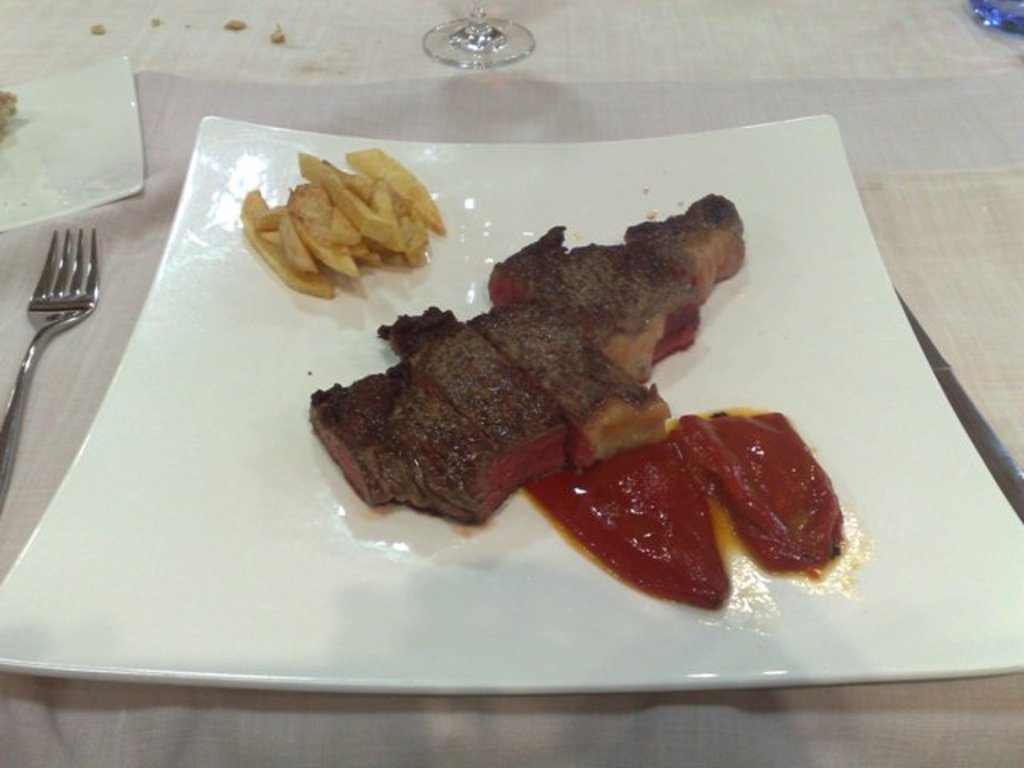French fries: (235, 144, 446, 297)
